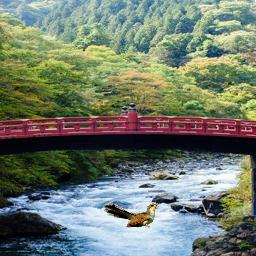Cuckoo: (104, 203, 160, 228)
